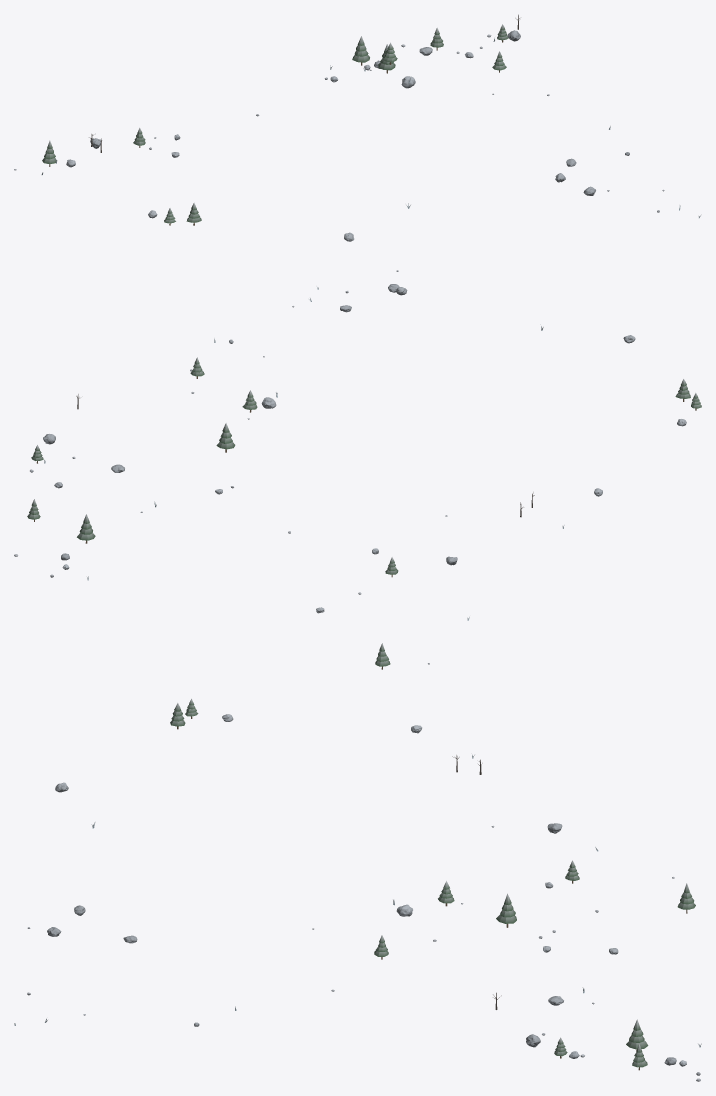
File: frost_land_scatter_c16_09.glb
The picture shows the model from 3 angles, top to bottom: view 1: azimuth 30°, elevation 25°; view 2: azimuth 150°, elevation 25°; view 3: azimuth 270°, elevation 25°; orthographic projection. The views are drawn at different scales.
Parts seen in each view (by area): view 1: frost_land_scatter_c16_09; view 2: frost_land_scatter_c16_09; view 3: frost_land_scatter_c16_09.
Part boxes in pixels (<box>): frost_land_scatter_c16_09: <box>14,14,701,241</box>; frost_land_scatter_c16_09: <box>14,270,701,669</box>; frost_land_scatter_c16_09: <box>14,698,701,1081</box>.
Bounding box in the file's own units: 244 × 67.29 × 251.
